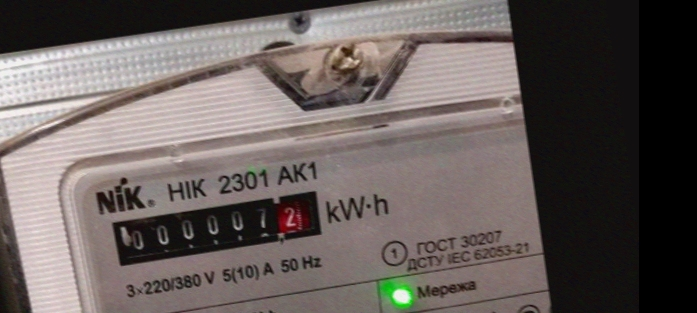0: (129, 226, 146, 252), (205, 212, 222, 237), (180, 217, 196, 242), (229, 208, 245, 232), (154, 223, 170, 246)
2: (282, 204, 298, 229)
7: (255, 204, 270, 230)
screen: (100, 179, 334, 276)
